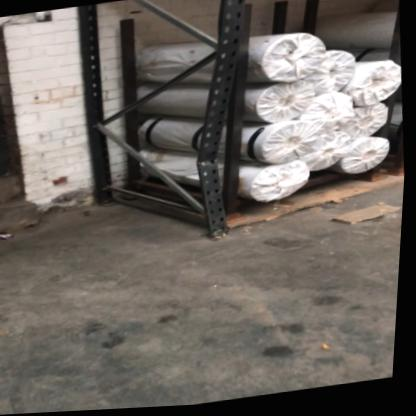vertical_damage: (178, 84, 248, 207)
